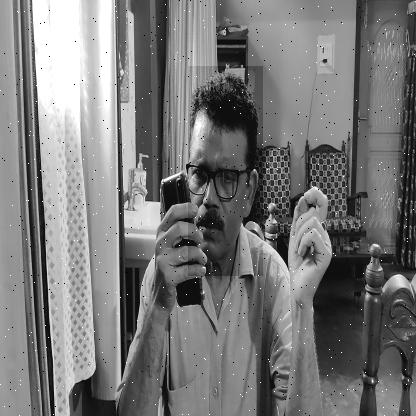Distracted: (188, 66, 263, 276)
